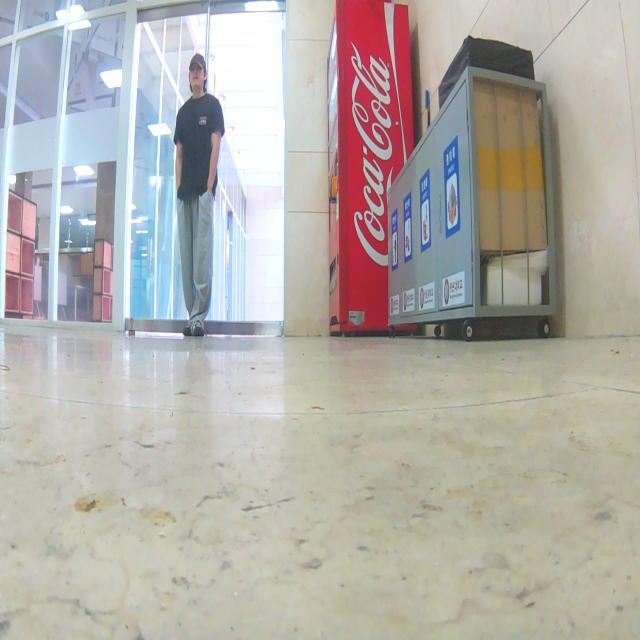target: (128, 316, 136, 338)
